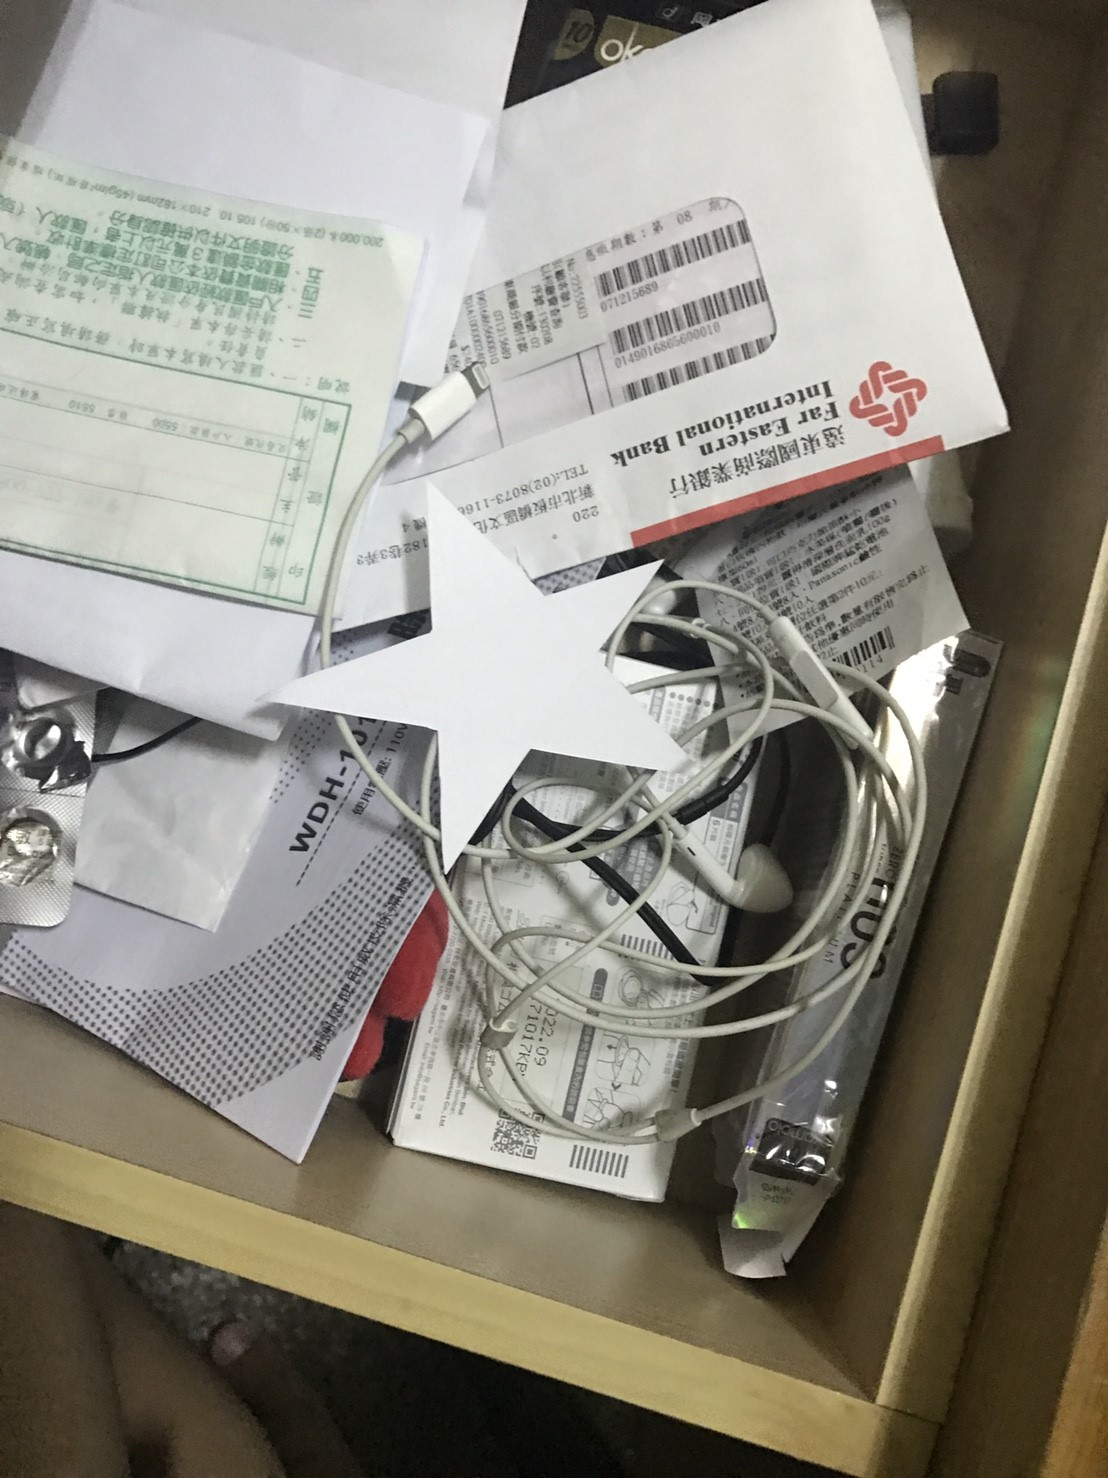star: (262, 471, 753, 881)
